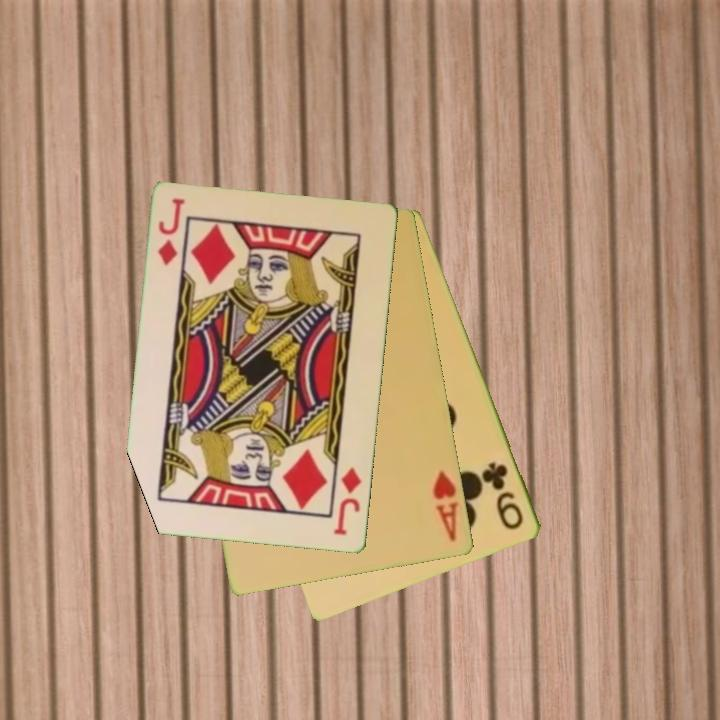9c: (480, 459, 527, 533)
Ah: (430, 467, 462, 545)
Jd: (330, 464, 365, 539), (155, 195, 188, 269)
